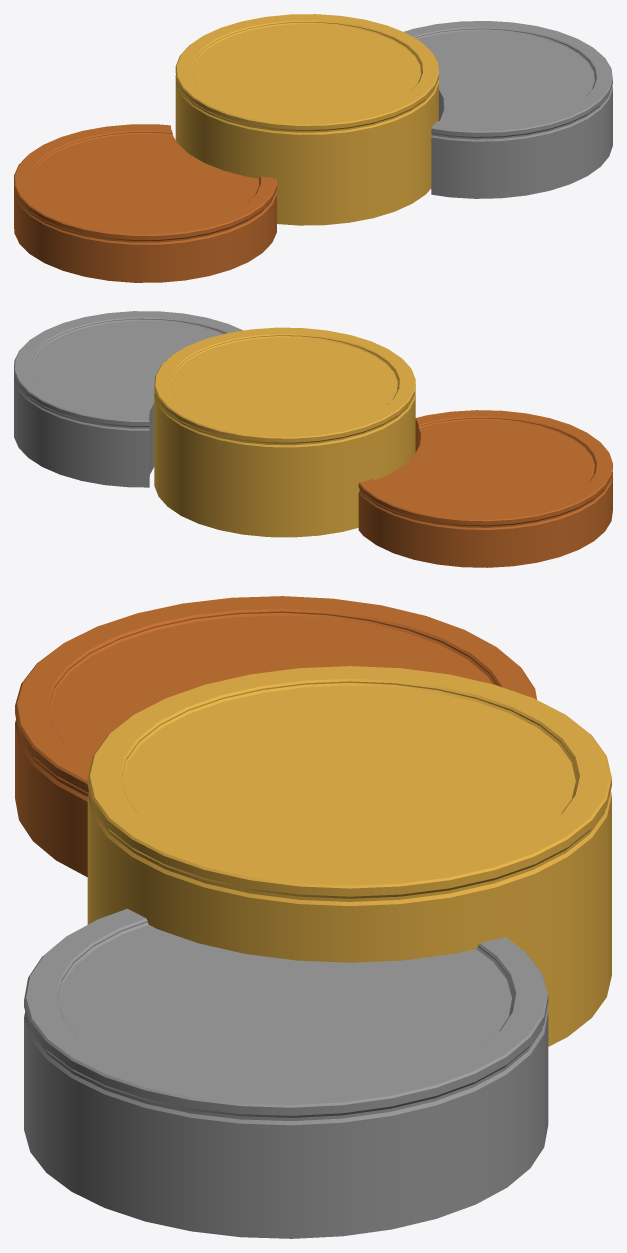
The model's file is Podium.fbx.
The picture shows the model from 3 angles, top to bottom: view 1: azimuth 30°, elevation 25°; view 2: azimuth 150°, elevation 25°; view 3: azimuth 270°, elevation 25°; orthographic projection. The views are drawn at different scales.
Parts seen in each view (by area): view 1: Podest Gold, Podest Bronze, Podest Silver; view 2: Podest Gold, Podest Bronze, Podest Silver; view 3: Podest Gold, Podest Silver, Podest Bronze.
Part boxes in pixels (box(x1,y1,x2,y2)): Podest Gold: box(175, 14, 438, 225); Podest Bronze: box(14, 124, 276, 282); Podest Silver: box(404, 21, 612, 198); Podest Gold: box(154, 327, 415, 537); Podest Bronze: box(358, 410, 612, 567); Podest Silver: box(14, 311, 243, 487); Podest Gold: box(87, 666, 611, 1046); Podest Silver: box(24, 908, 548, 1238); Podest Bronze: box(15, 596, 536, 877).
Bounding box in the file's own units: 248 × 42 × 114.
